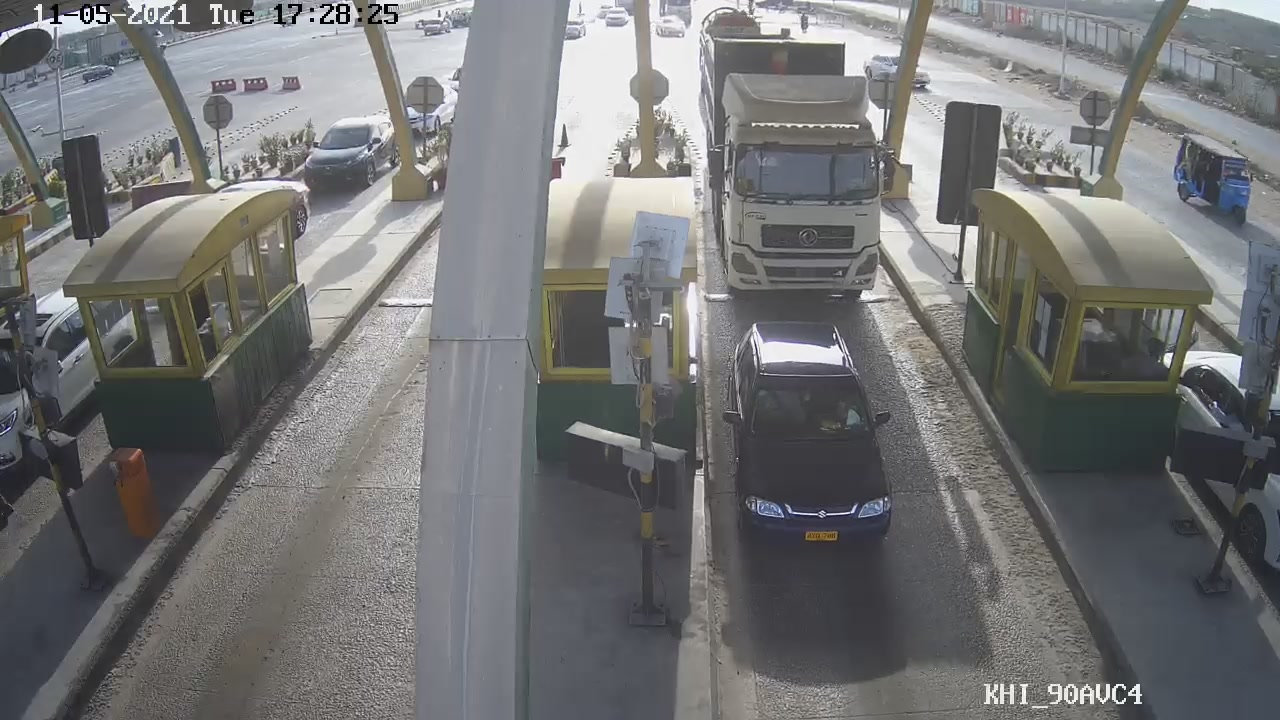F6: (692, 35, 900, 308)
